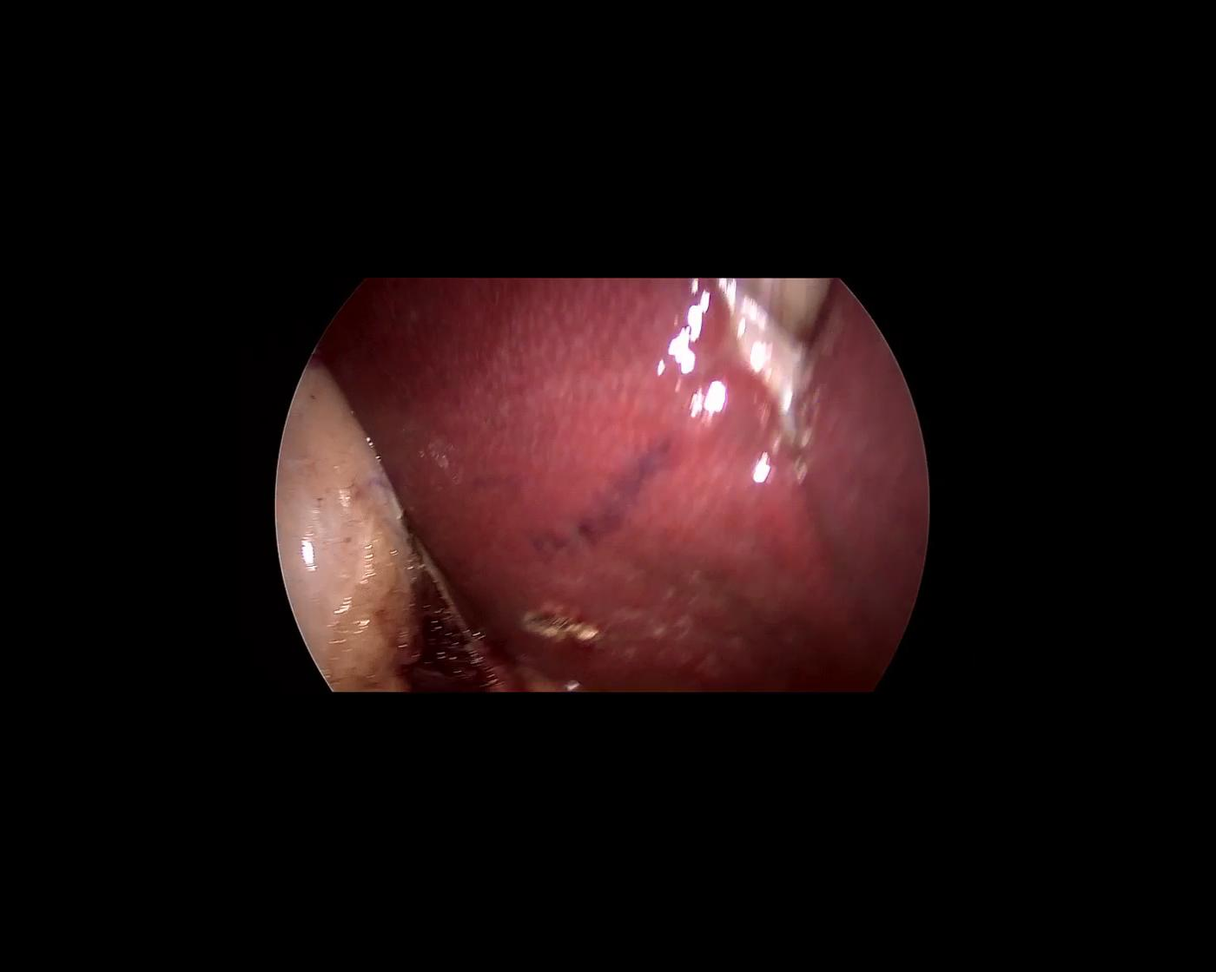Gallbladder: (219, 340, 456, 714)
Liver: (316, 280, 926, 693)
